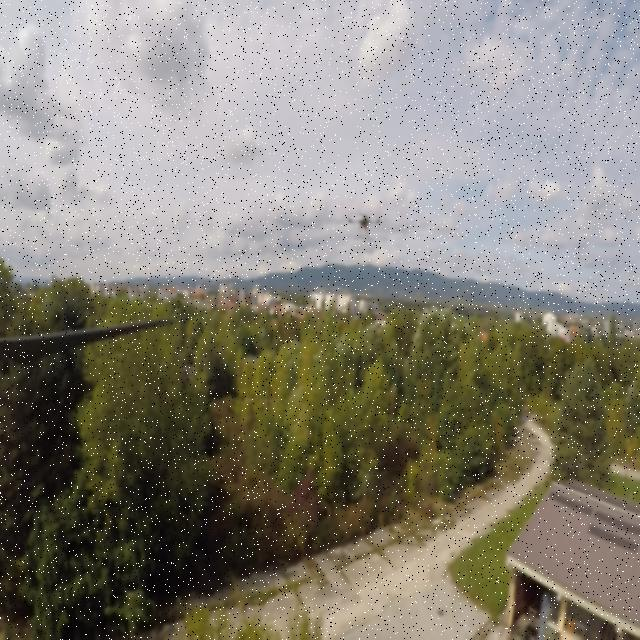UAV: (342, 207, 387, 242)
